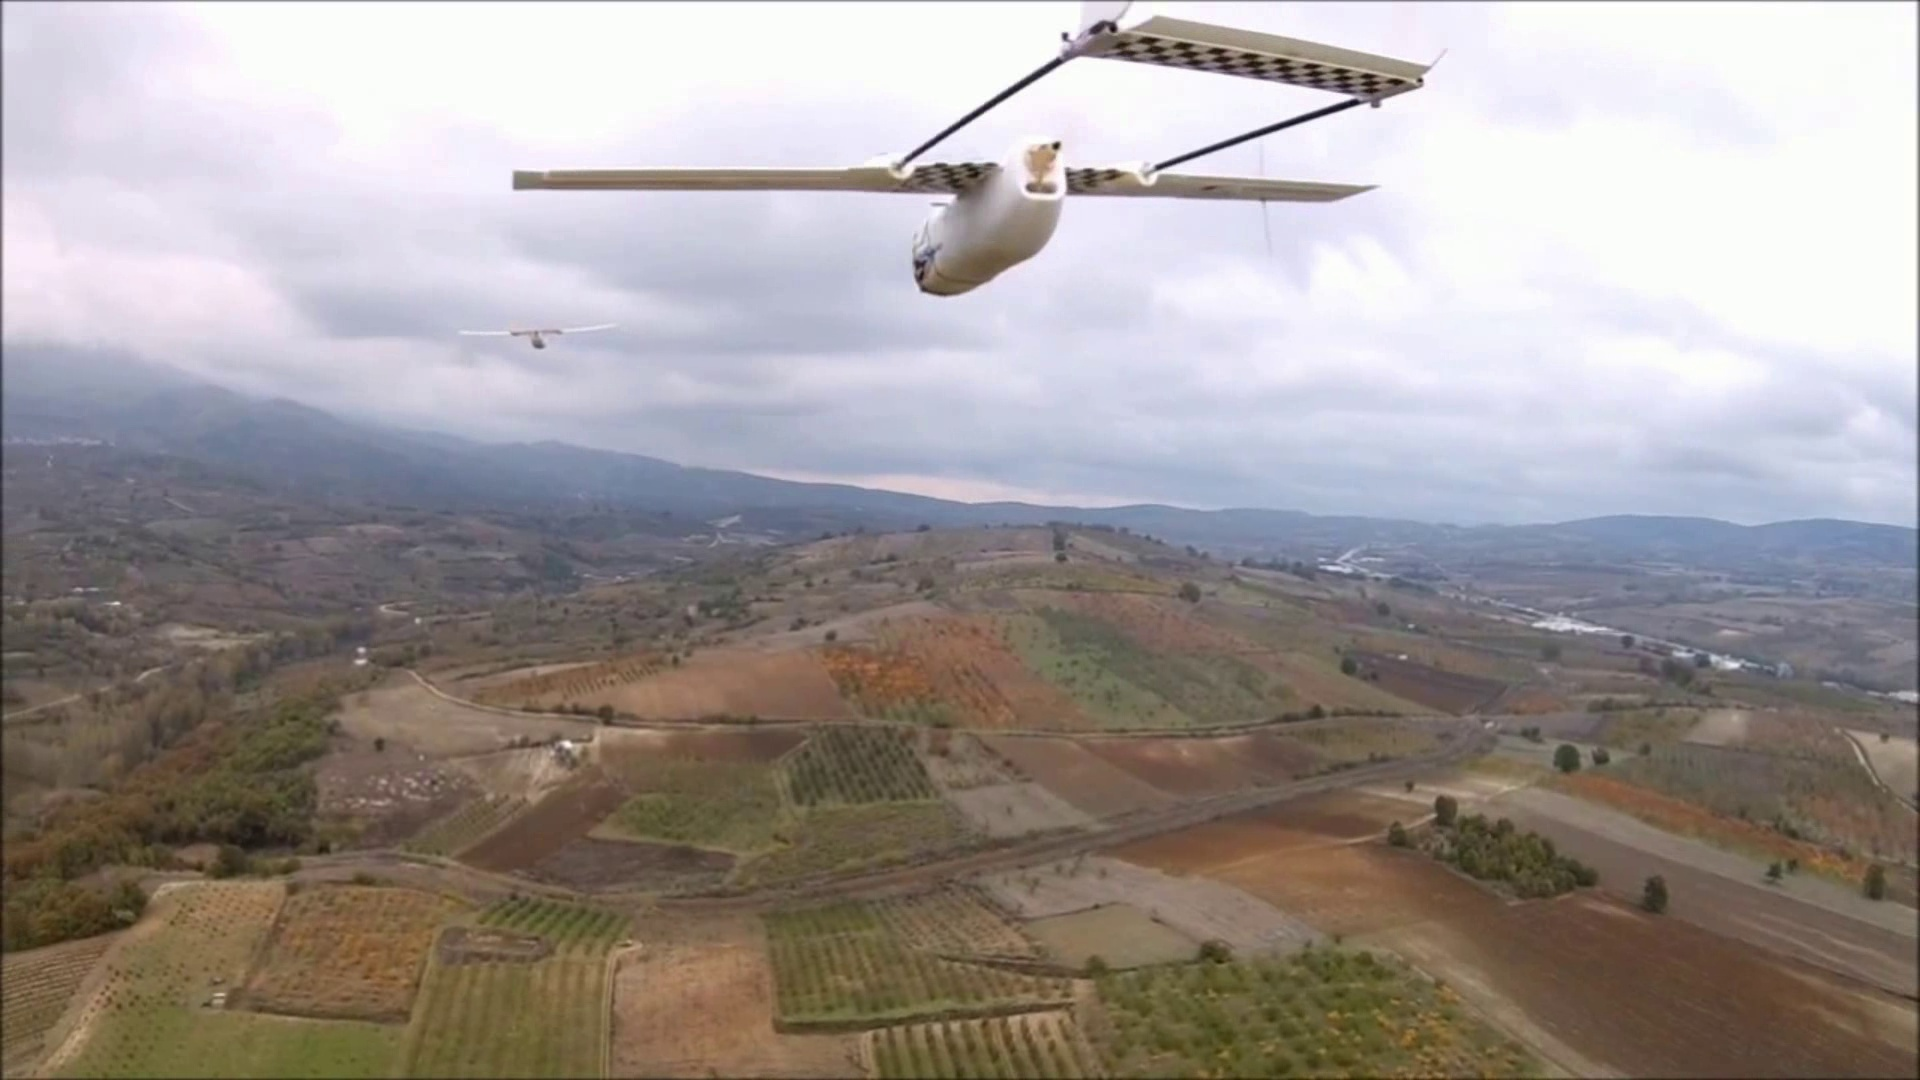airplane: (511, 8, 1442, 296)
